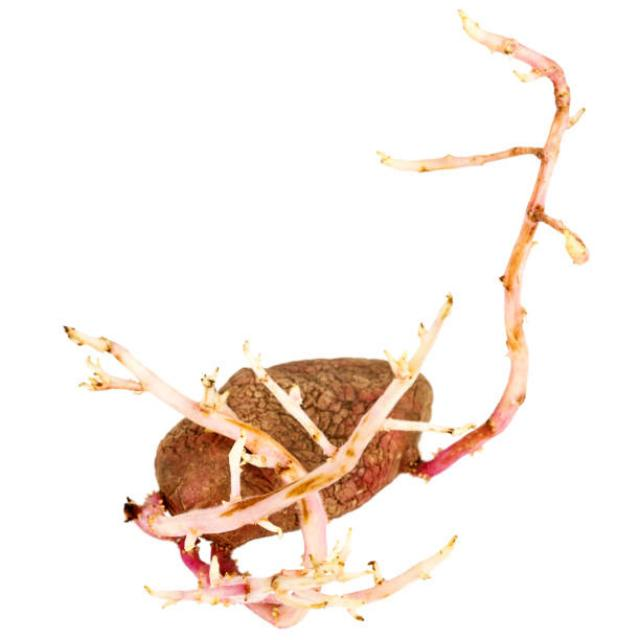Sprouted potato: (82, 268, 540, 618)
